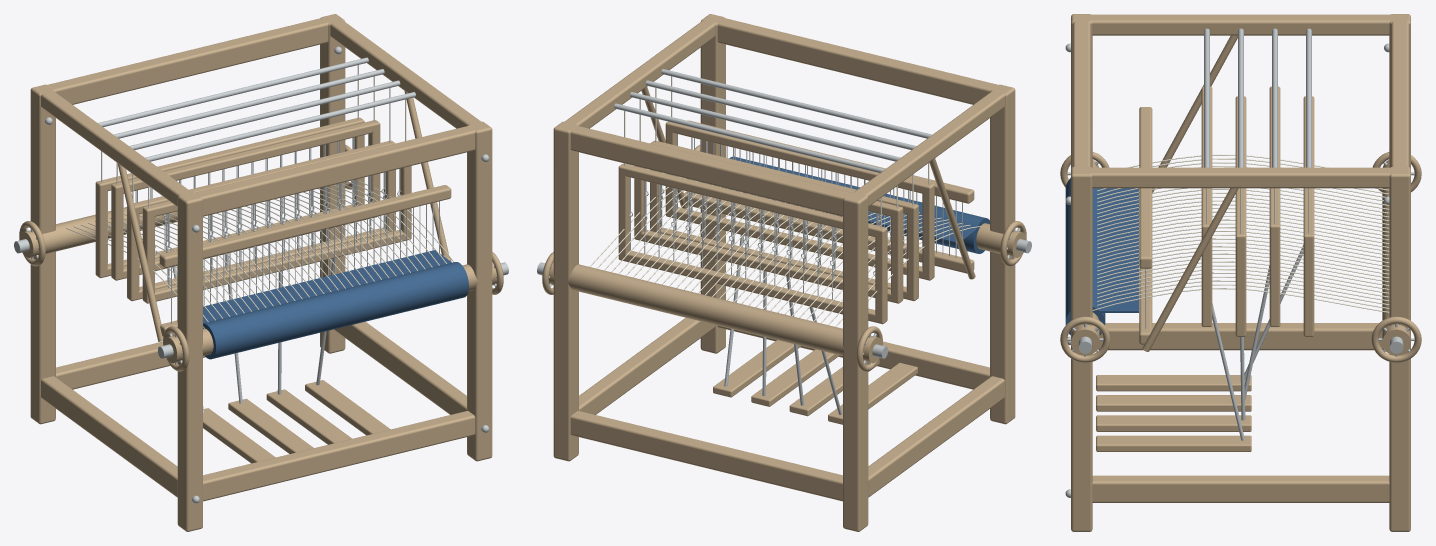
The model's file is textile-weaving-and-dye-workshop-four-shaft-floor-loom-1a5daeaa__29532.glb.
3 renders of one model, left to right at view 1: azimuth 30°, elevation 25°; view 2: azimuth 150°, elevation 25°; view 3: azimuth 270°, elevation 25°, orthographic. The views are drawn at different scales.
Parts seen in each view (by area): view 1: four-shaft-floor-loom; view 2: four-shaft-floor-loom; view 3: four-shaft-floor-loom.
Boxes of the visible parts, bbox=[...] form: four-shaft-floor-loom: bbox=[14, 14, 508, 531]; four-shaft-floor-loom: bbox=[537, 14, 1031, 531]; four-shaft-floor-loom: bbox=[1060, 14, 1421, 531].
Size of the model in its own units: 1.8 by 1.65 by 1.51.
